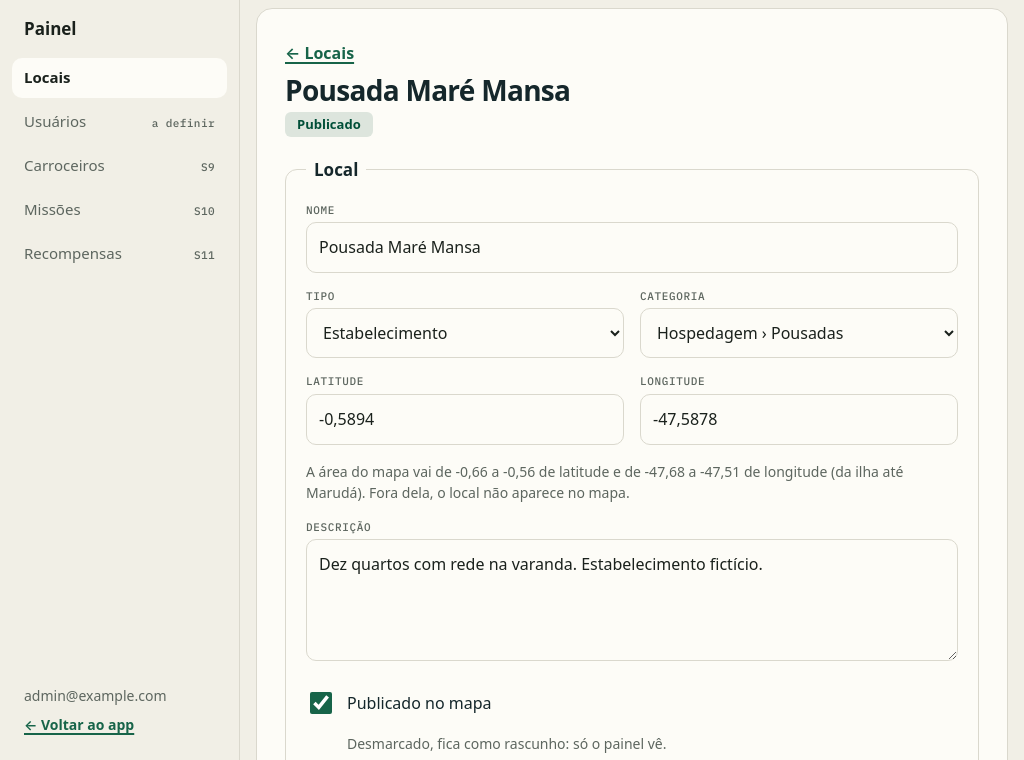
Test case: formulário do local › na edição, envia só o que mudou
The image size is (1024, 760).
Replace the text in the field labelled "Nome" with "Pousada Maré Mansa II": (632,248) top-left (306, 222), bottom-right (958, 273)
(page scrolled)
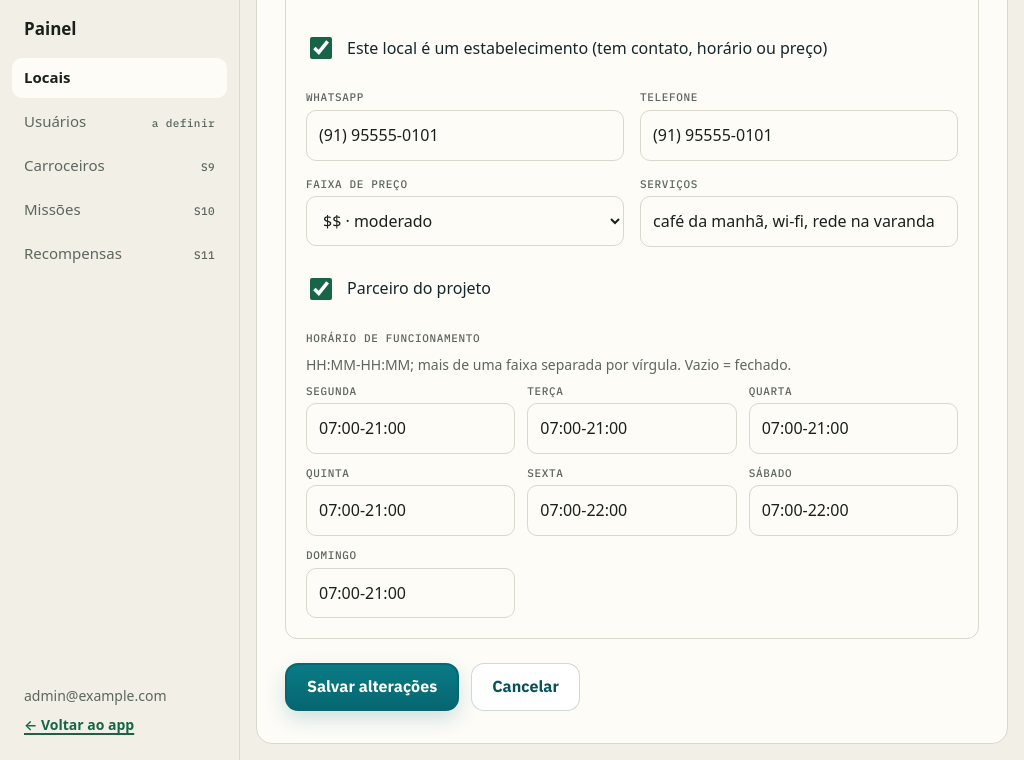
Click the button "Salvar alterações": (372,687) top-left (285, 664), bottom-right (459, 711)
(page scrolled)
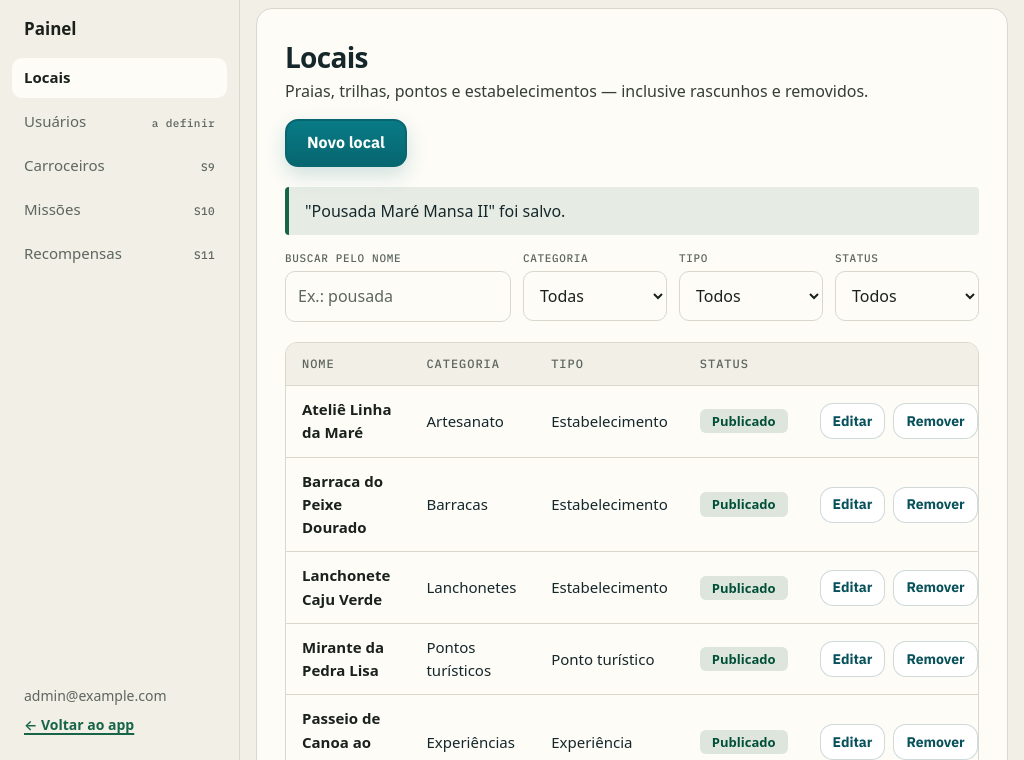
Check: the text "\"Pousada Maré Mansa II\" foi salvo." is shown, box top-left (285, 187), bottom-right (979, 235)
